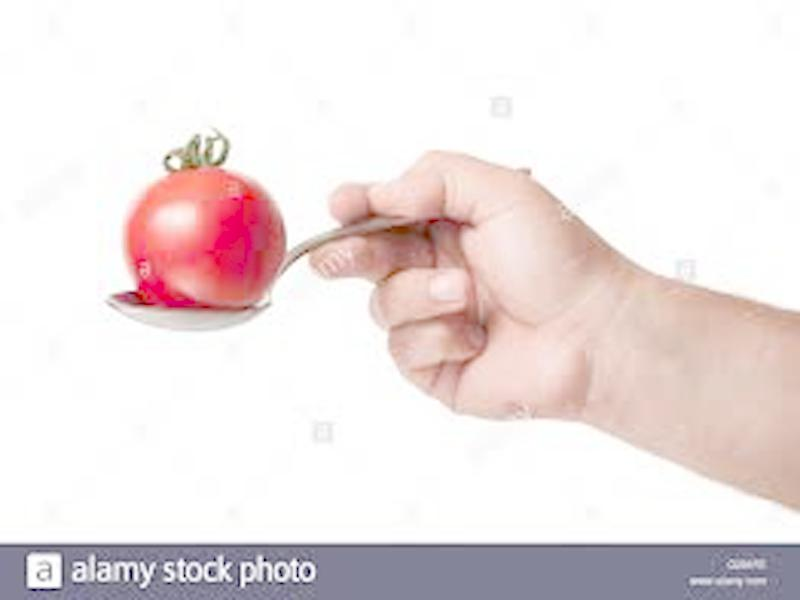Tomato: (125, 166, 287, 306)
